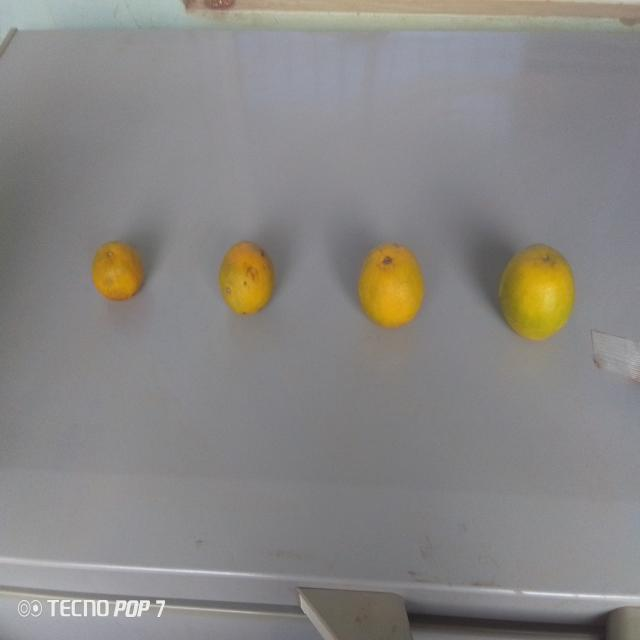Ripe orange: (492, 239, 580, 349), (354, 238, 426, 335), (216, 236, 278, 326), (86, 238, 148, 308)
